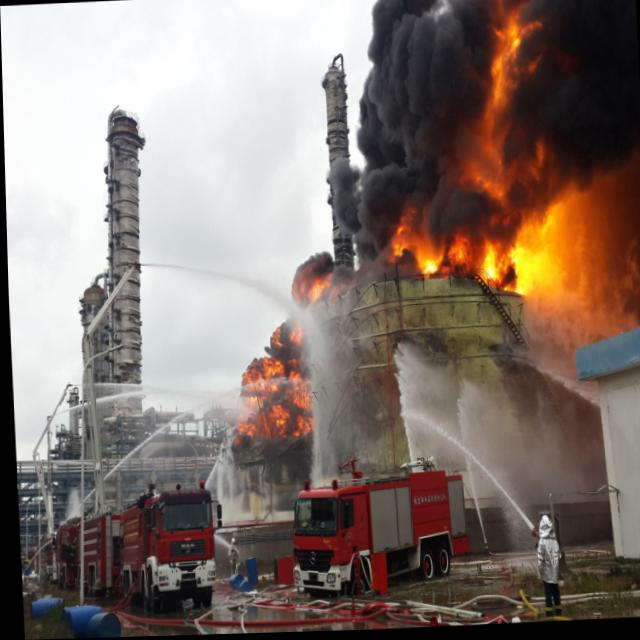fire: (373, 163, 585, 313), (218, 255, 339, 454), (482, 0, 543, 120)
